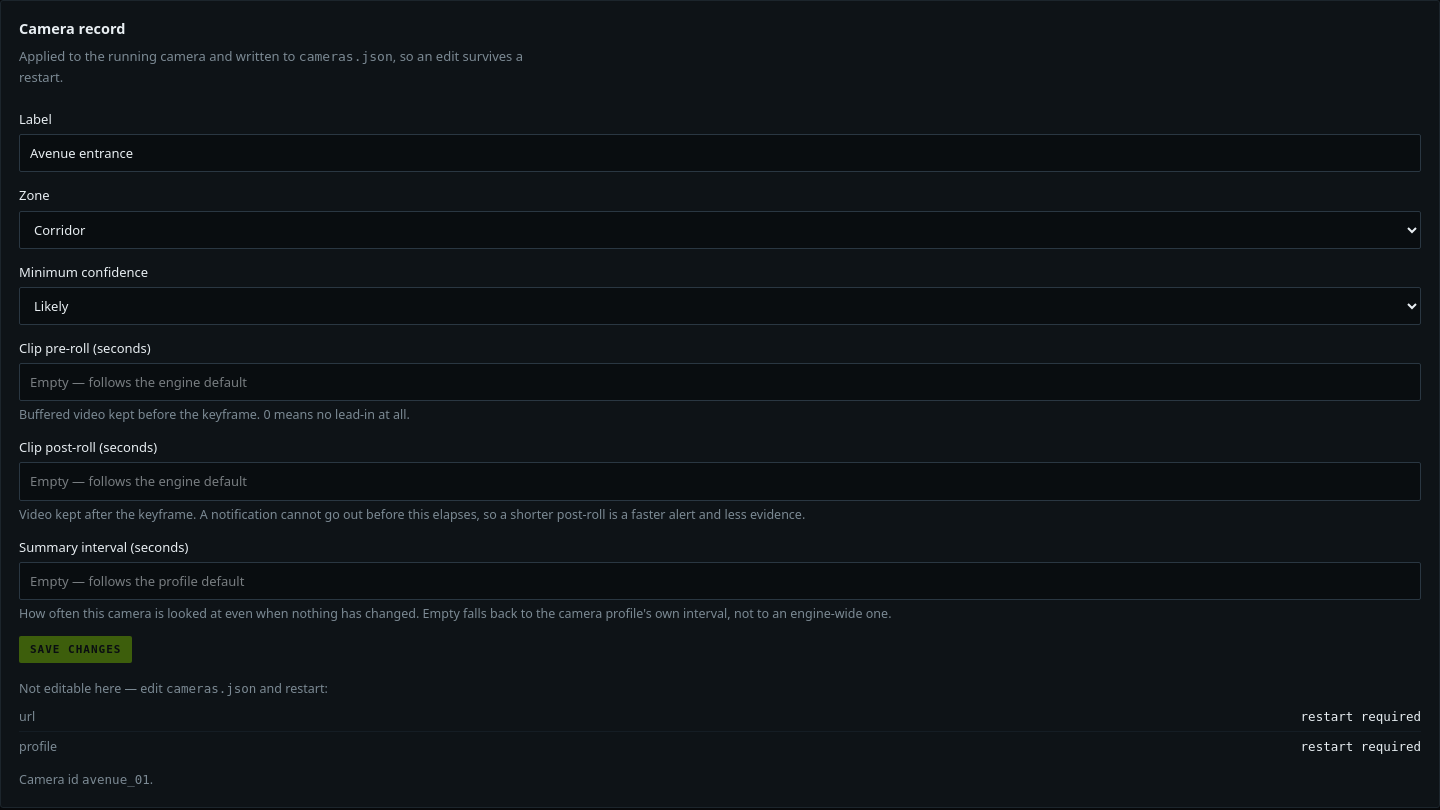
CameraRecordPanel, editing › confirms the save by reporting what was stored and that it survives a restart
Replace the text in the field labelled "Label" with "East door" at [720, 153], box [19,134,1421,172]
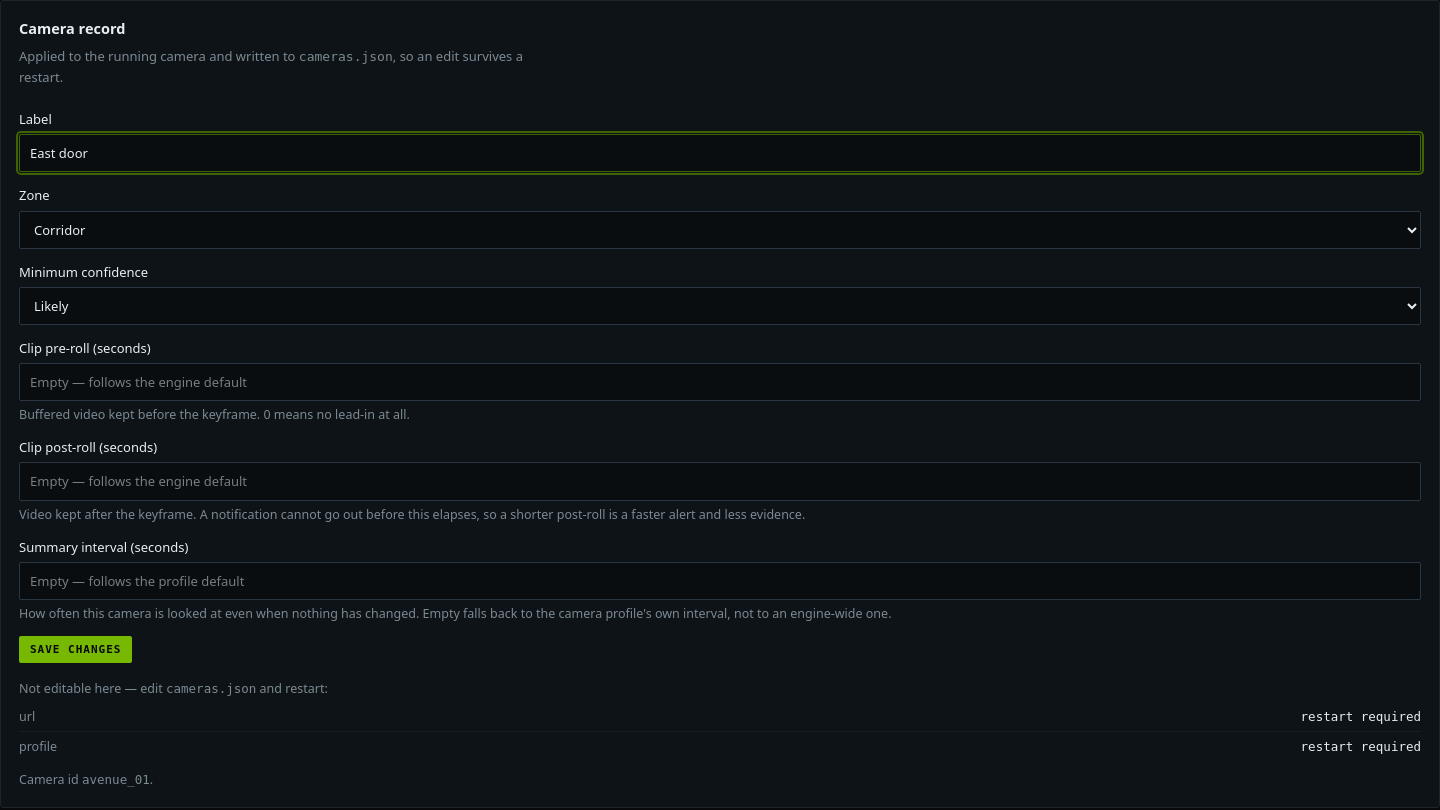
Click the button "Save changes" at [76, 649], box [19,636,132,663]
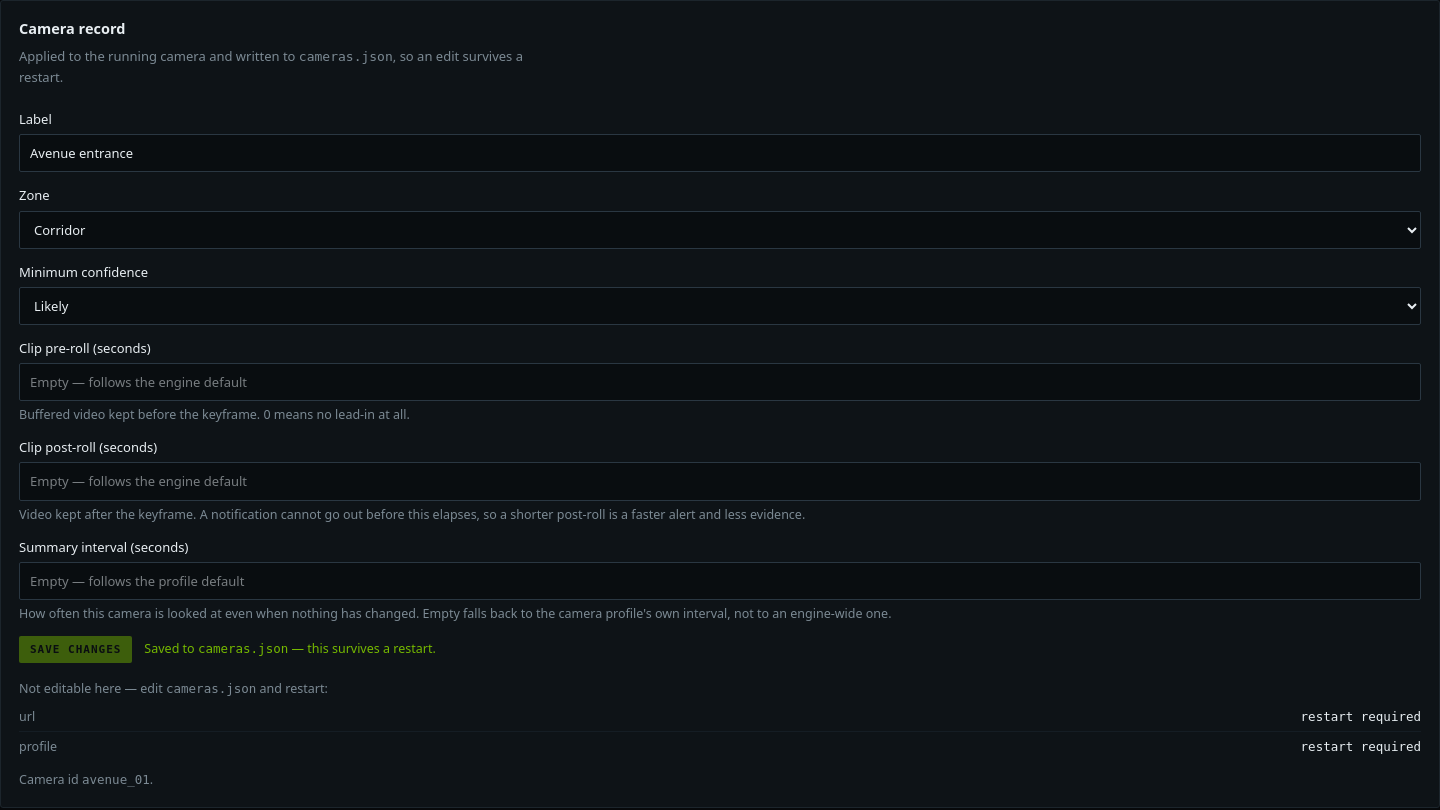
Now the element with test id "camera-record-feedback" shows "Saved", box [144,640,198,658]
Now the element with test id "camera-record-feedback" shows "cameras.json", box [198,642,288,656]
